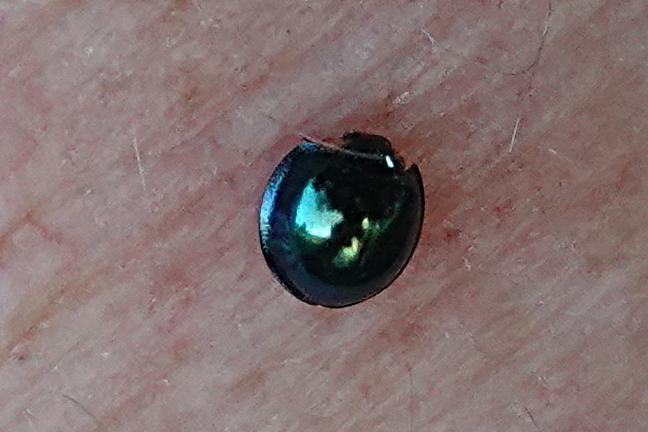ladybug: (258, 129, 429, 310)
